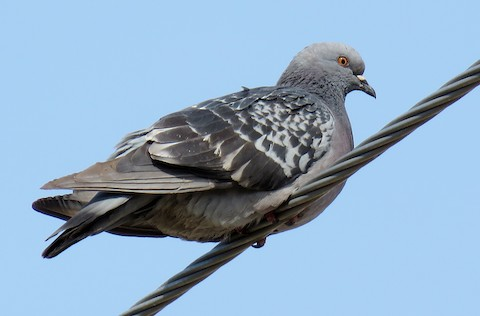pigeon: (31, 34, 381, 275)
